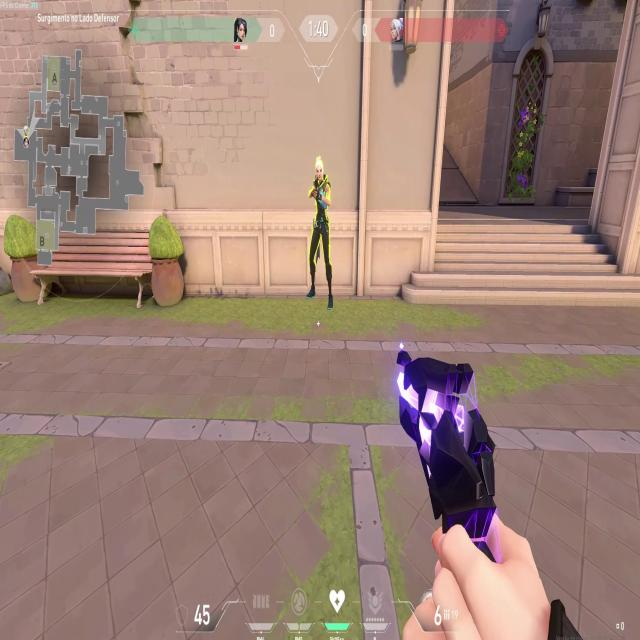head: (314, 158, 326, 182)
